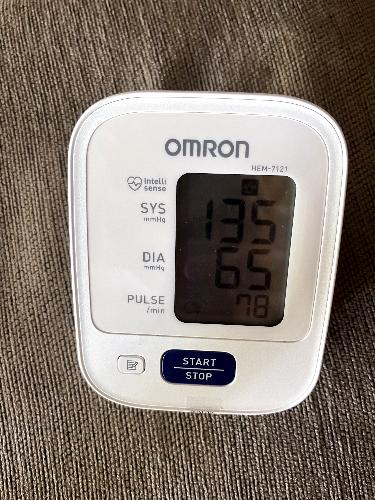bpm: (169, 169, 299, 332)
